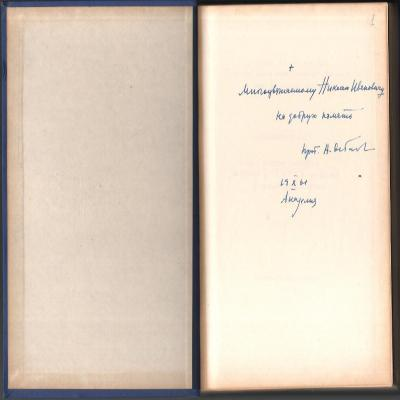document: (0, 0, 400, 397)
